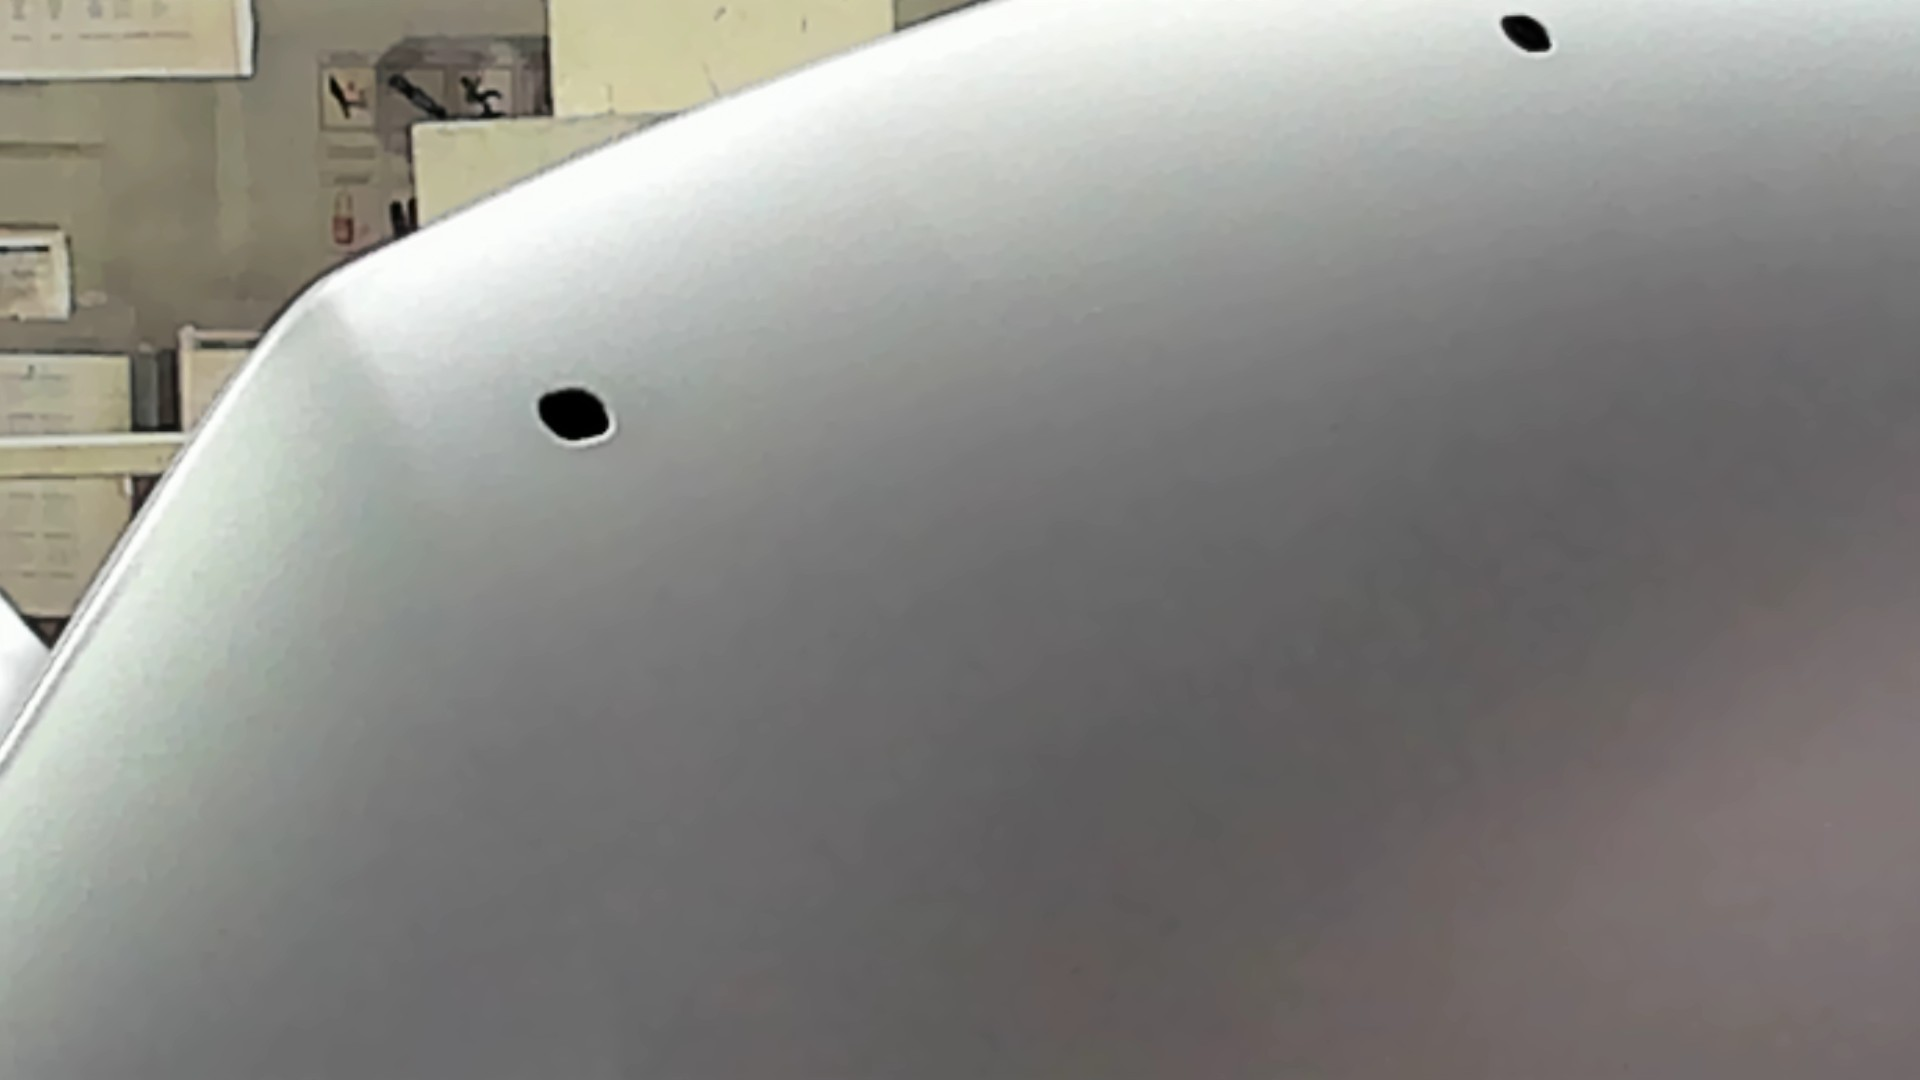amorfo: (530, 382, 621, 450), (1495, 9, 1557, 61)
